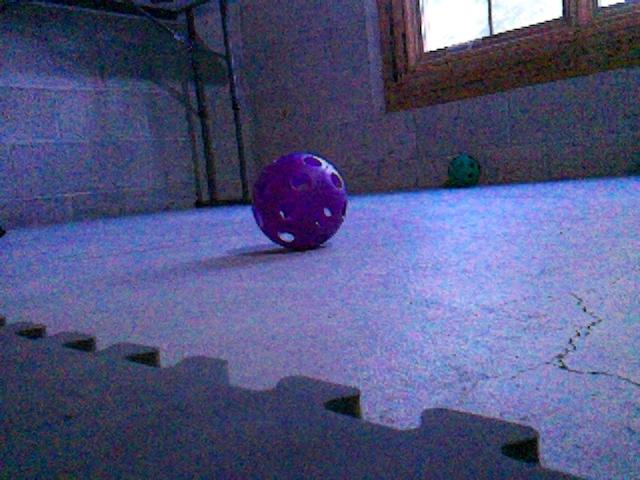Green: (447, 153, 481, 188)
Purple: (248, 148, 349, 252)
